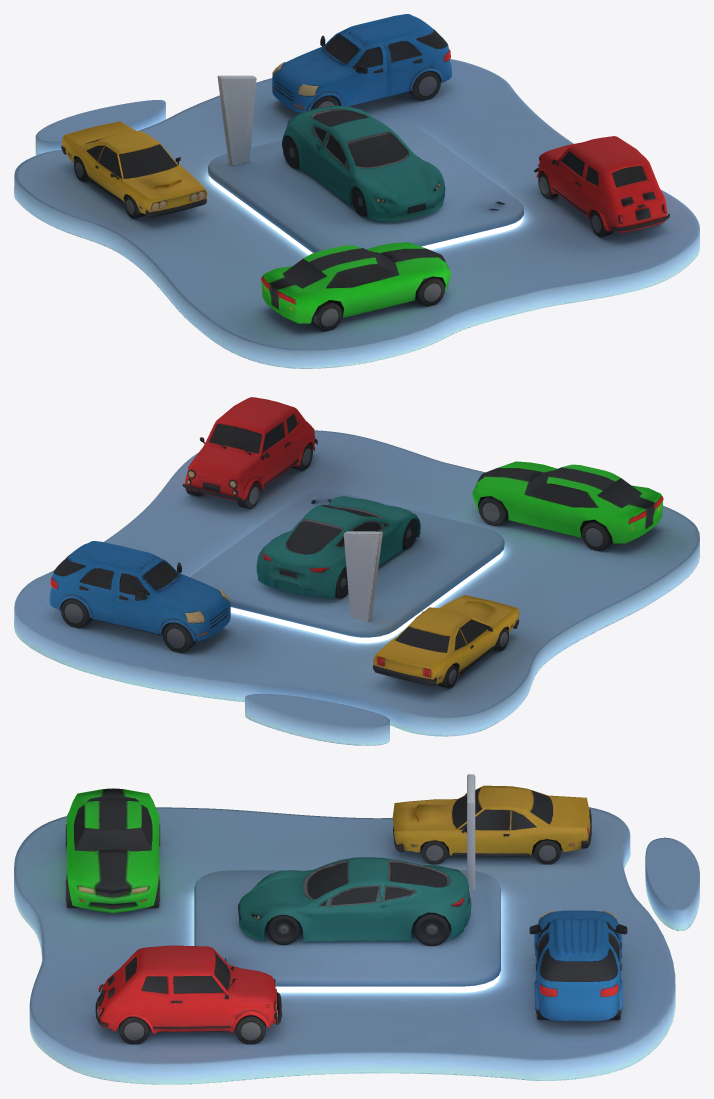
The model's file is LeviSpace.glb.
3 renders of one model, top to bottom at view 1: azimuth 30°, elevation 25°; view 2: azimuth 150°, elevation 25°; view 3: azimuth 270°, elevation 25°, orthographic. The views are drawn at different scales.
Visible parts, largest first — view 1: LeviSpace; view 2: LeviSpace; view 3: LeviSpace.
Boxes of the visible parts, bbox=[...] form: LeviSpace: bbox=[14, 14, 699, 368]; LeviSpace: bbox=[14, 397, 699, 745]; LeviSpace: bbox=[14, 774, 699, 1084].
Bounding box in the file's own units: 12.17 × 2.95 × 13.54.
Materials: 2 (1 with a texture image).
